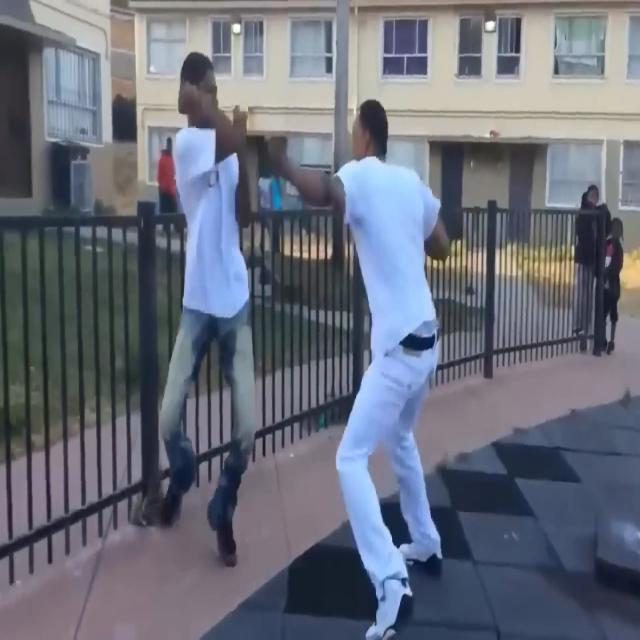violence: (142, 50, 448, 640)
